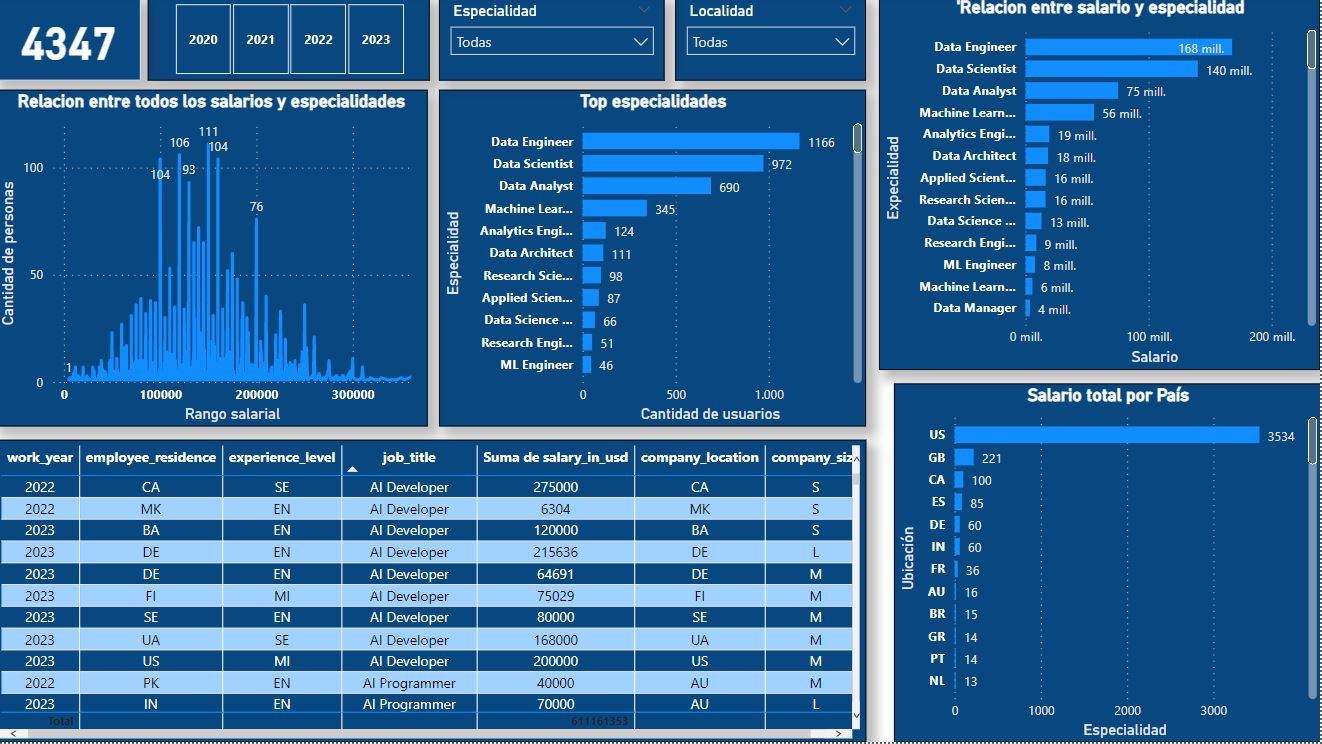

The dashboard page shown, as its layout file describes it:
{"tool":"powerbi","page":{"name":"Página 1","canvas":[1280,720],"ordinal":0},"visuals":[{"type":"tableEx","fields":{"Values":["Salarios.work_year","Salarios.employee_residence","Salarios.experience_level","Salarios.job_title","Sum(Salarios.salary_in_usd)","Salarios.company_location","Salarios.company_size"]},"box":[0,427.7,841.3,292.3],"z":0},{"type":"slicer","fields":{"Values":["Salarios.company_location"]},"box":[657.1,0,184.2,81.5],"z":1000},{"type":"slicer","fields":{"Values":["Salarios.work_year"]},"box":[148.8,0,271.9,81.5],"z":2000},{"type":"card","fields":{"Values":["Salarios.Total acumulado de Recuento de company_location en company_location"]},"box":[0,0,141.7,81.5],"z":3000},{"type":"clusteredBarChart","title":"Salario total por País","fields":{"Category":["Salarios.company_location"],"Y":["Salarios.Total acumulado de Recuento de company_location en job_title"]},"box":[867.9,373.7,411.8,346.3],"z":4000},{"type":"clusteredBarChart","title":"Top especialidades","fields":{"Category":["Salarios.job_title"],"Y":["CountNonNull(Salarios.job_title)"]},"box":[429.5,90.3,411.8,325],"z":5000},{"type":"lineChart","title":"Relacion entre todos los salarios y especialidades","fields":{"Category":["Salarios.salary_in_usd"],"Y":["CountNonNull(Salarios.job_title)"]},"box":[0,90.3,418,325],"z":6000},{"type":"clusteredBarChart","title":"''Relacion entre salario y especialidad","fields":{"Category":["Salarios.job_title"],"Y":["Sum(Salarios.salary_in_usd)"]},"box":[853.7,0,426,360.4],"z":7000},{"type":"slicer","fields":{"Values":["Salarios.job_title"]},"box":[429.5,0,217.9,81.5],"z":8000}]}

Visuals, with their boxes in screenshot pixels (x1, y1, x2, y2), scaled from the page's 1280x720 canvas onto the 1322x744 screenshot:
tableEx - Salarios.work_year x Salarios.employee_residence: pyautogui.locateOnScreen(0, 442, 869, 743)
slicer - Salarios.company_location: pyautogui.locateOnScreen(679, 0, 869, 84)
slicer - Salarios.work_year: pyautogui.locateOnScreen(154, 0, 435, 84)
card - Salarios.Total acumulado de Recuento de company_location en company_location: pyautogui.locateOnScreen(0, 0, 146, 84)
"Salario total por País" clusteredBarChart: pyautogui.locateOnScreen(896, 386, 1321, 743)
"Top especialidades" clusteredBarChart: pyautogui.locateOnScreen(444, 93, 869, 429)
"Relacion entre todos los salarios y especialidades" lineChart: pyautogui.locateOnScreen(0, 93, 432, 429)
"''Relacion entre salario y especialidad" clusteredBarChart: pyautogui.locateOnScreen(882, 0, 1321, 372)
slicer - Salarios.job_title: pyautogui.locateOnScreen(444, 0, 669, 84)
